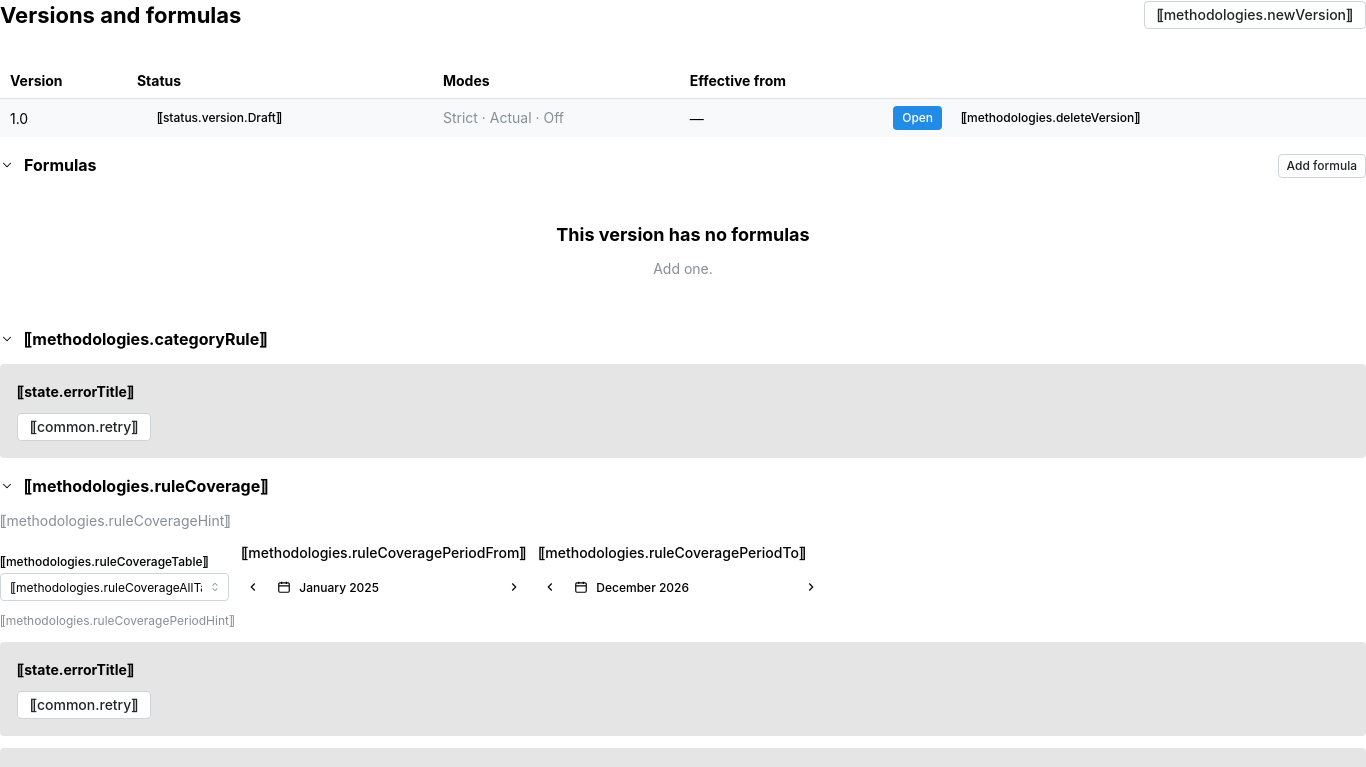
MethodologyVersionsPage: синтаксична помилка виразу більше не зберігається мовчки (lane5) › поле аргументів підказує маркер необов’язкового аргументу «?» (D-OA)
This screenshot has width=1366, height=767.
Expected: the text "1.0" is shown, [0, 99, 127, 138]
Click the button "Add formula": click(1322, 166) [1278, 154, 1365, 178]
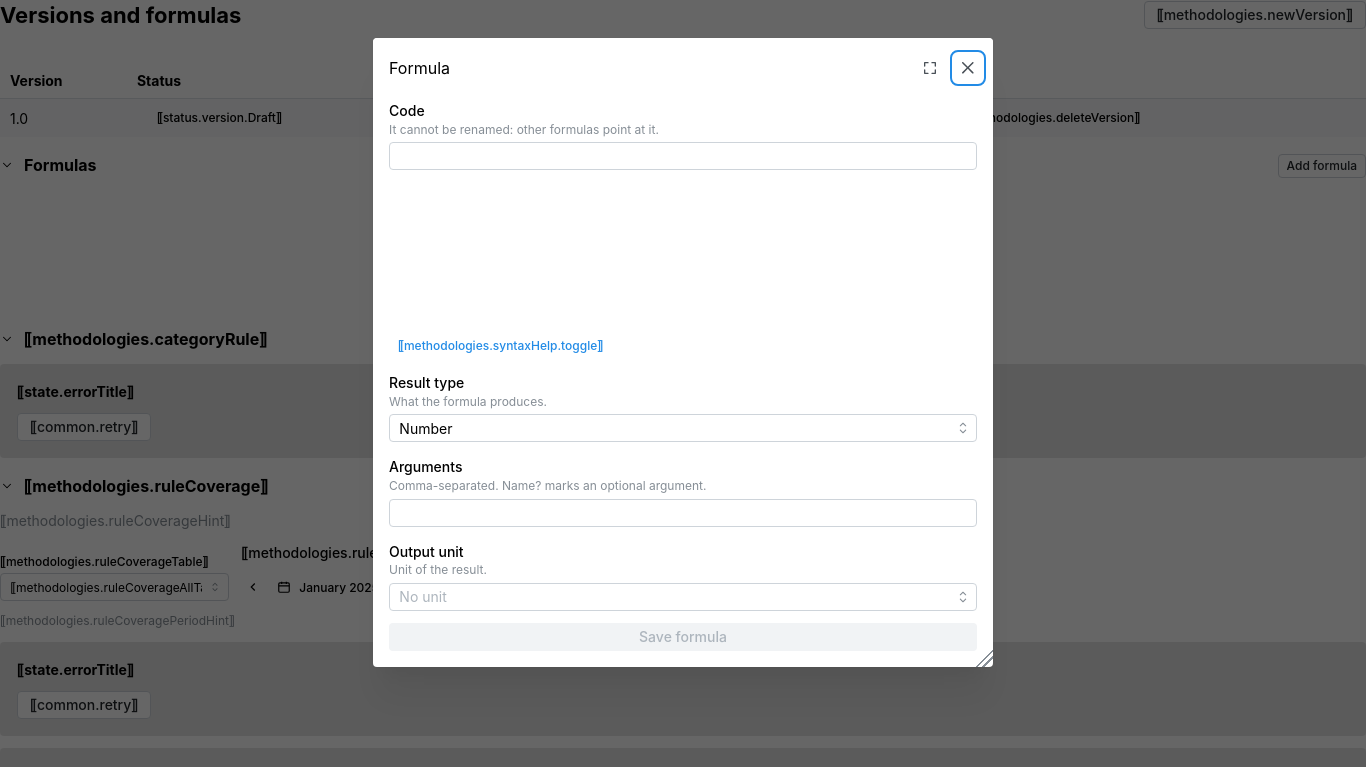
Now the text "Comma-separated. Name? marks an optional argument." is shown, box [389, 479, 706, 494]
